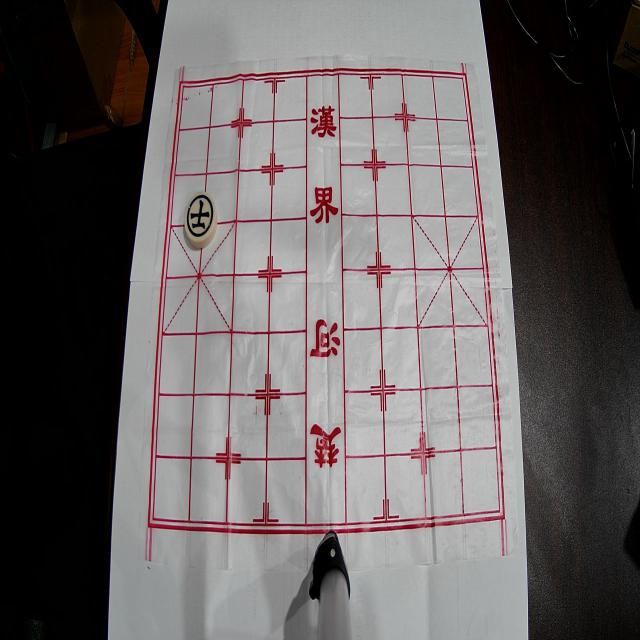black-guard: (185, 191, 218, 249)
